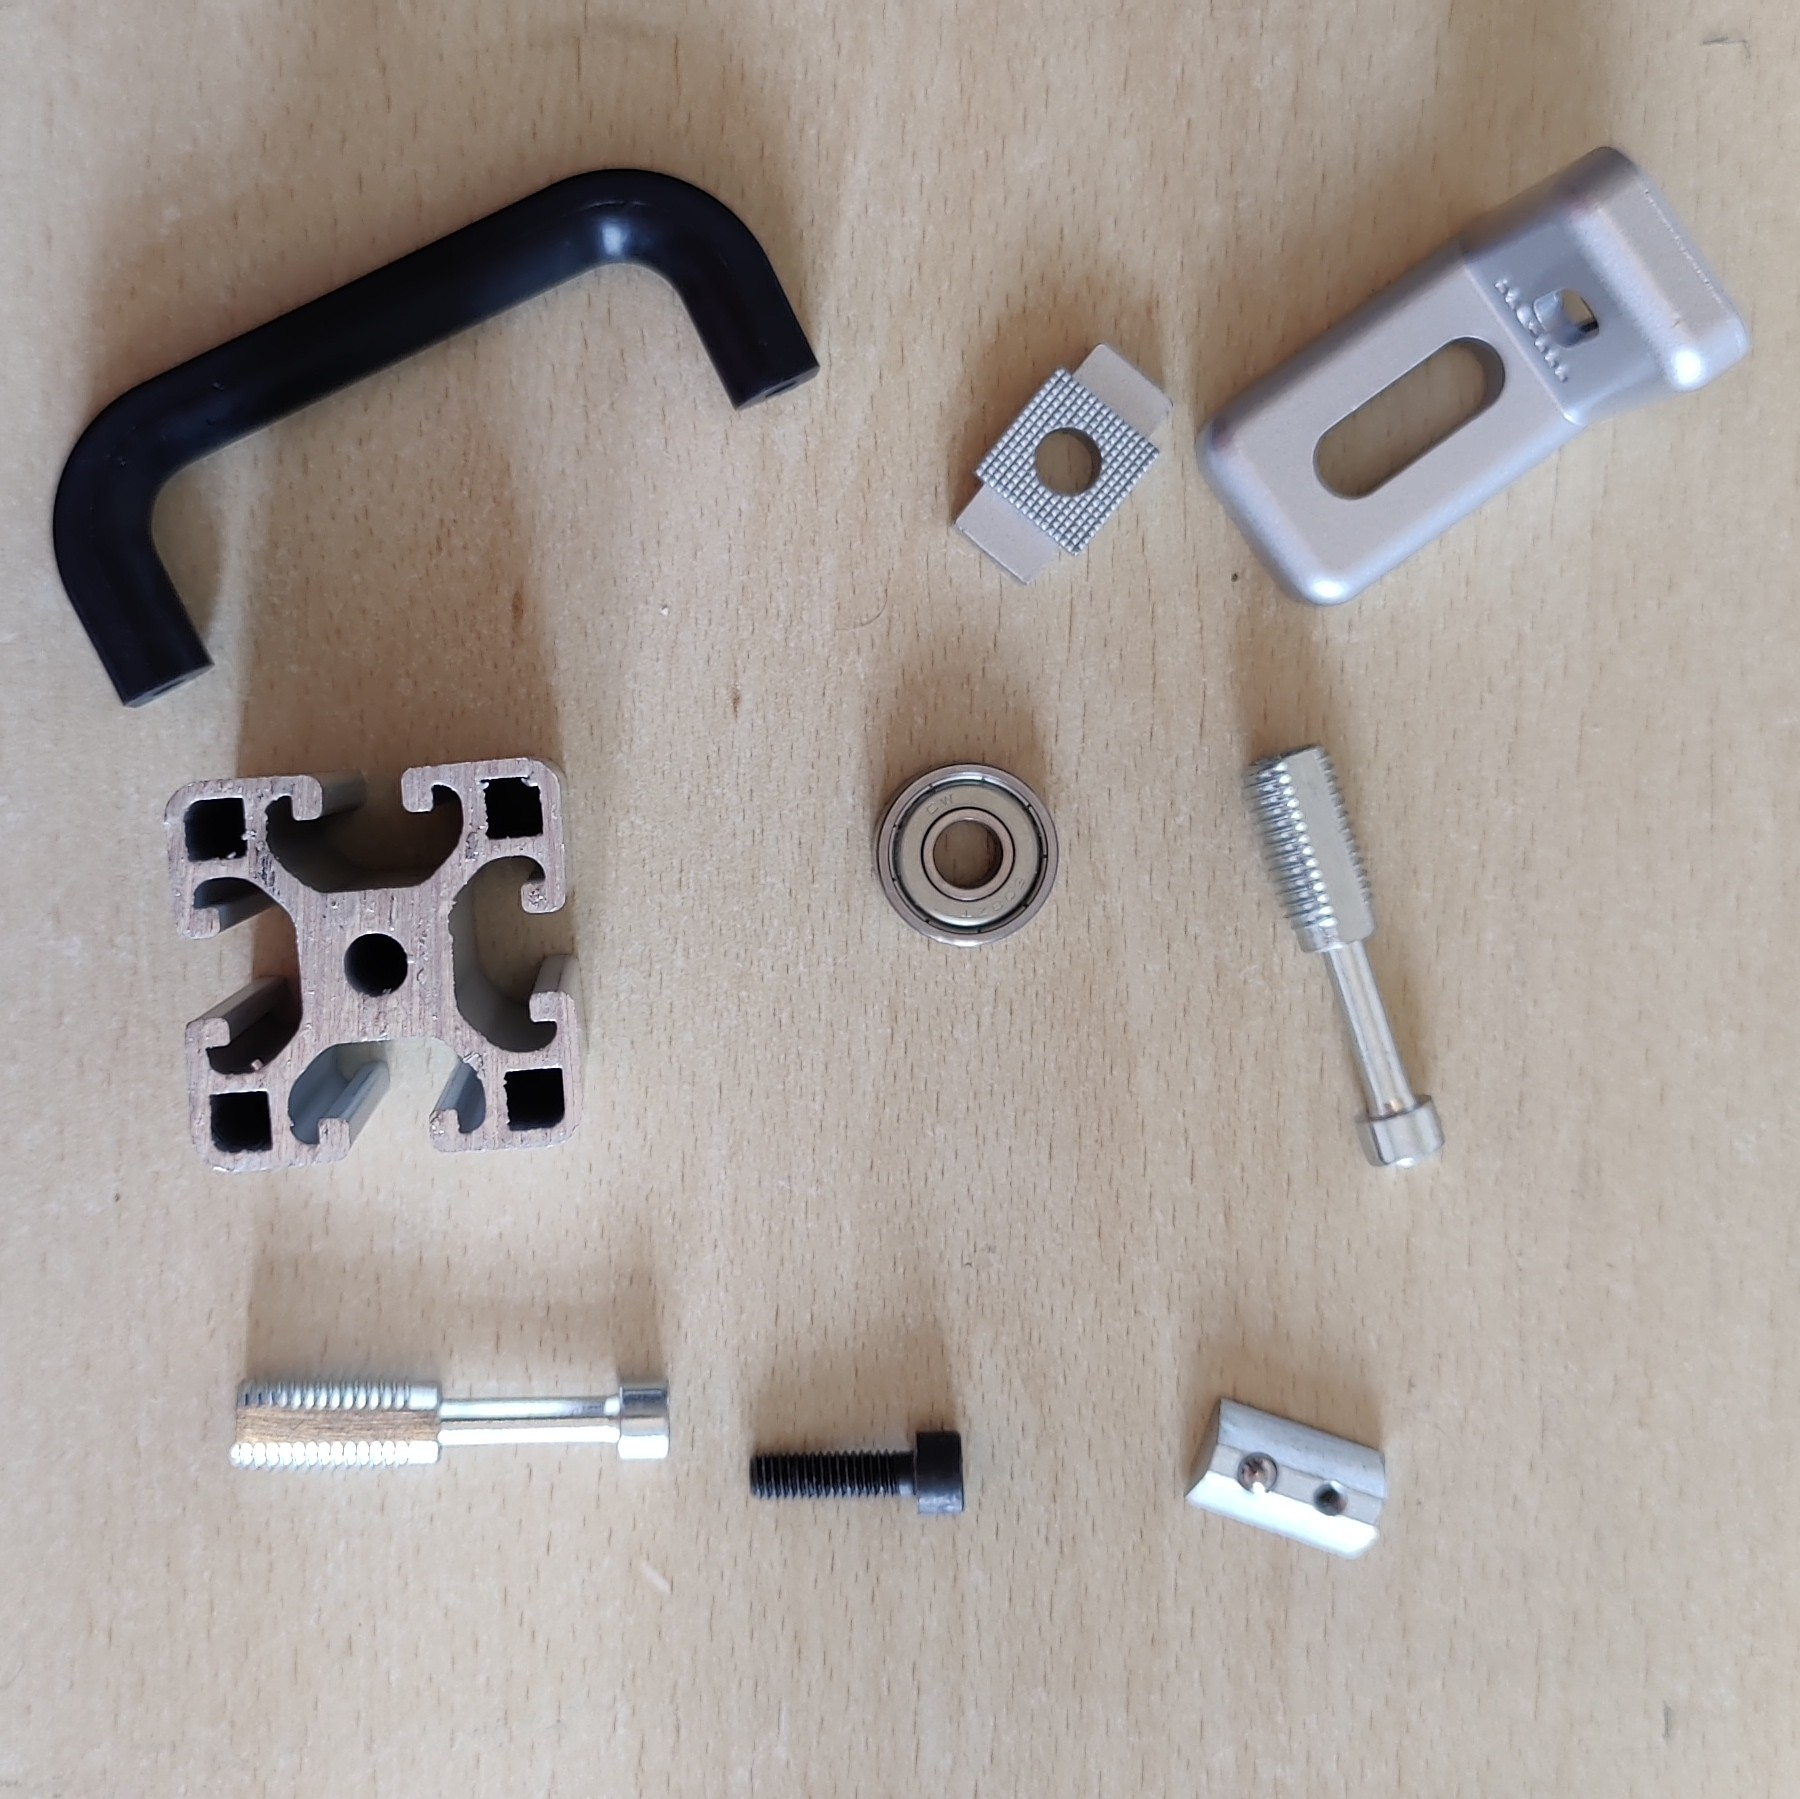Aluminium Extension: (160, 753, 590, 1176)
Ball Bearing: (873, 761, 1061, 949)
Multiwinkel: (1194, 142, 1751, 608)
Pull Handle: (48, 161, 823, 712)
Shoulder Socket Head Cap Screw: (1240, 741, 1448, 1173), (221, 1372, 674, 1473)
Socket Head Cap Screw: (748, 1418, 972, 1517)
T Nut Square: (950, 343, 1177, 591)
T Spring Nut: (1182, 1394, 1388, 1562)
